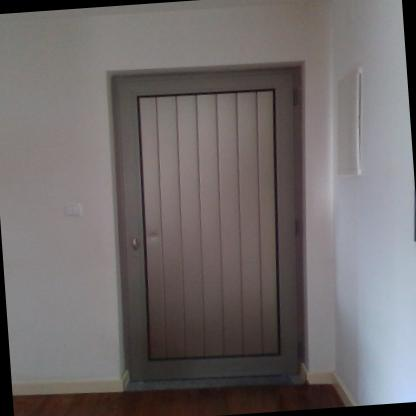closed: (87, 40, 344, 387)
